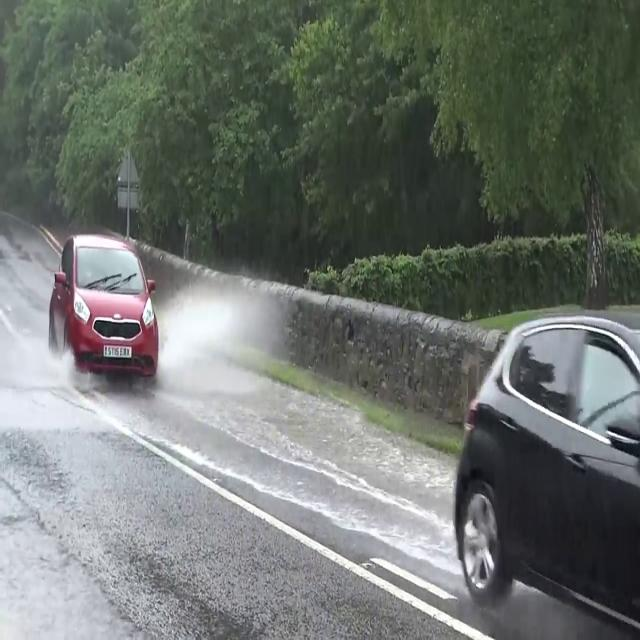license-plate-annotation: (104, 346, 136, 359)
